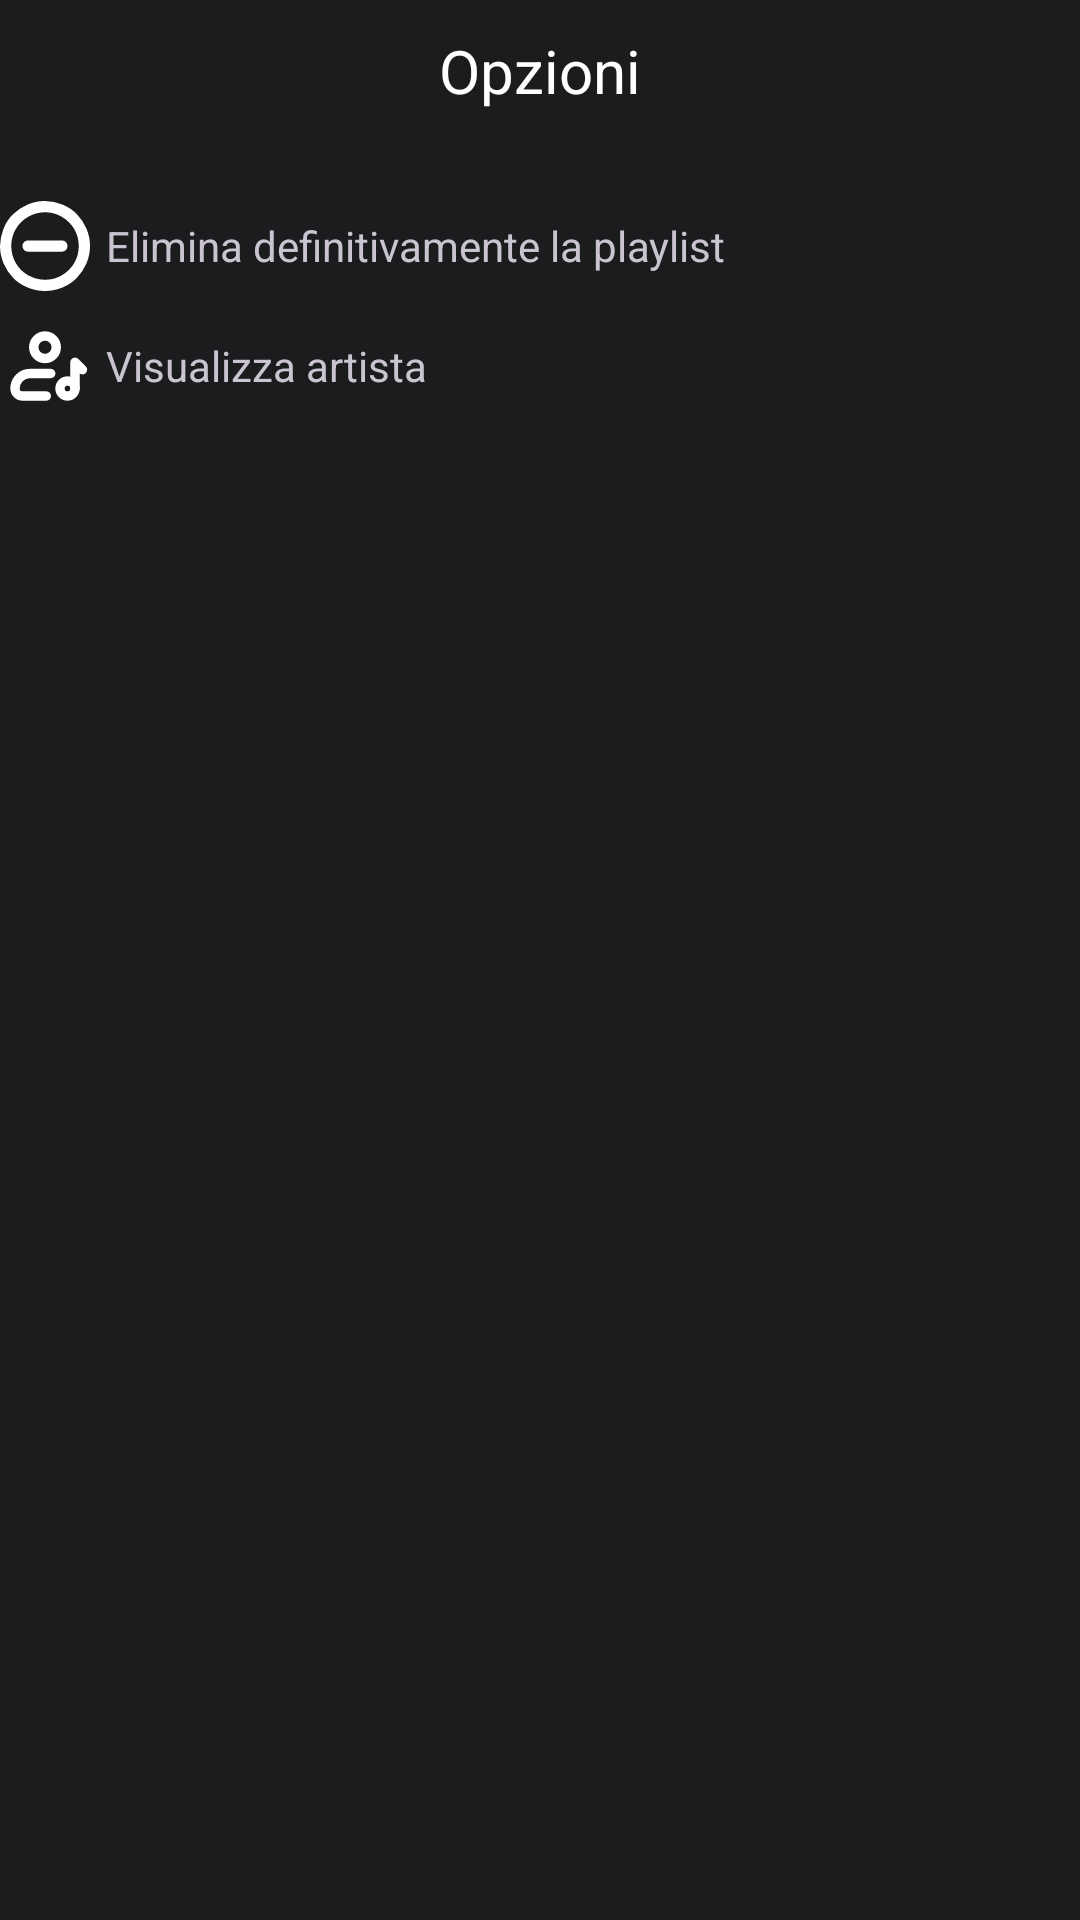

Locate icon controls on the screen. Image size 1080 × 1920, boxes as (x1, y1, x2, y2).
delete: (0, 201, 90, 291)
